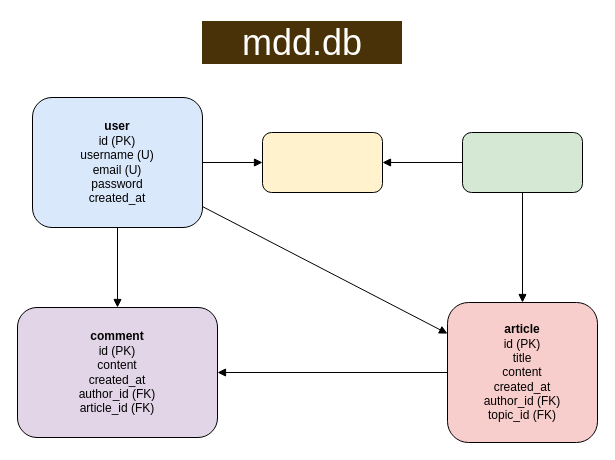
Image size: 615x460. Some labels were removed from this diagram. The centre of each missing label's shape, as x and y in pixels:
topic id (PK) name (U) description: (522,162)
user_topic_sub user_id (PK, FK) topic_id (PK, FK) subscribed_at: (322,162)
